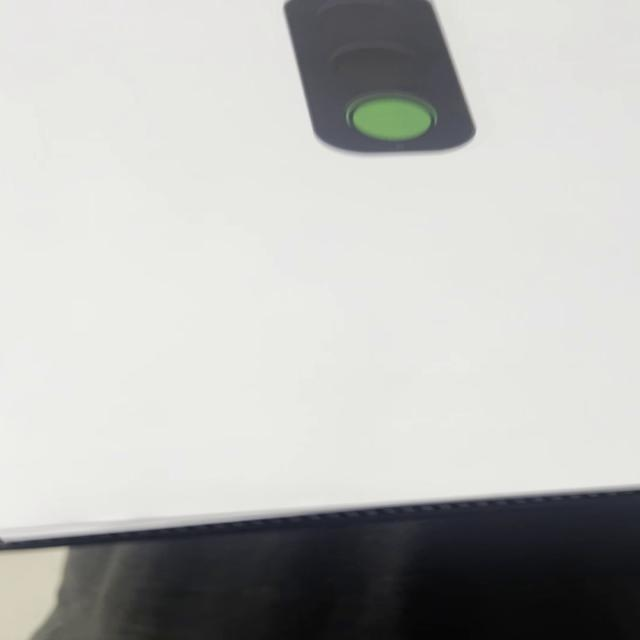green: (282, 1, 479, 155)
